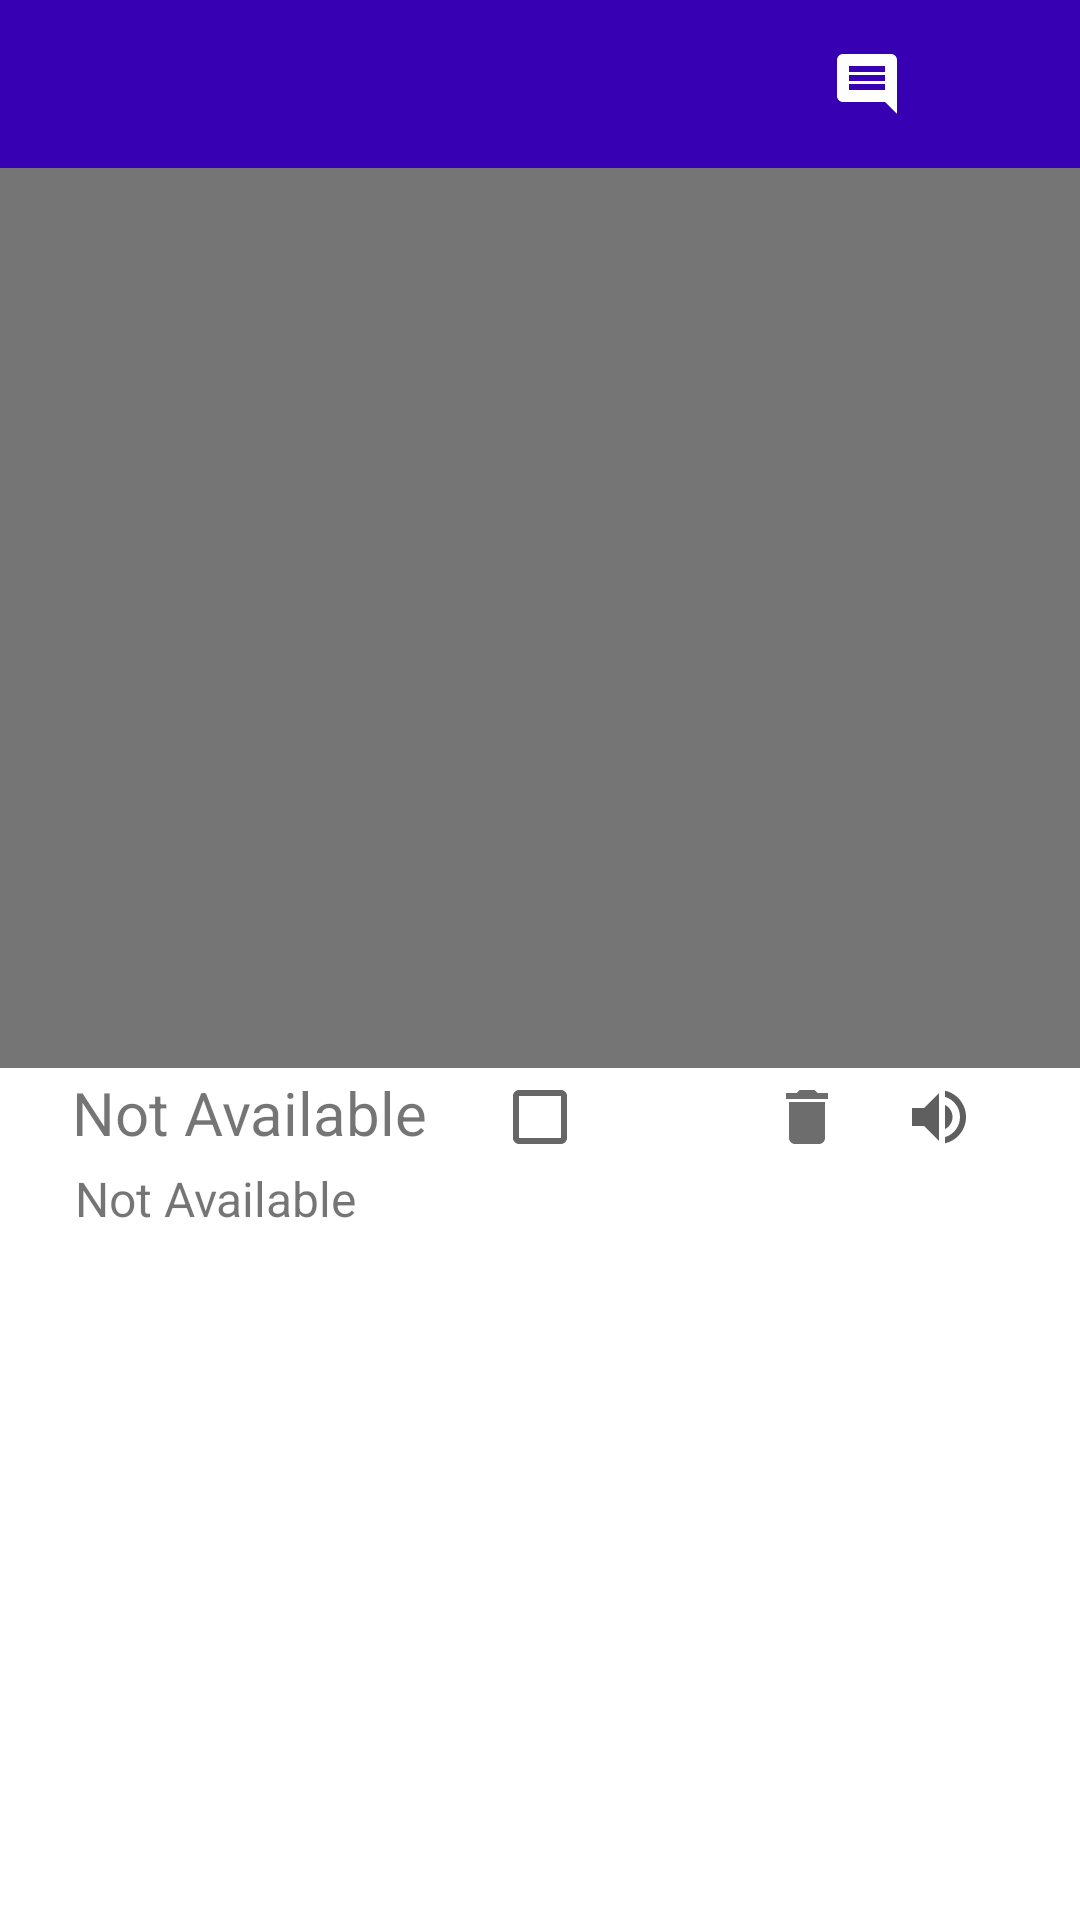

Named icons in this screenshot (1080w x 1920h) and their bounding boxes, (x1, y1, x2, y2):
comment: (837, 54, 897, 114)
delete: (786, 1090, 828, 1144)
speak aloud: (912, 1090, 966, 1144)
